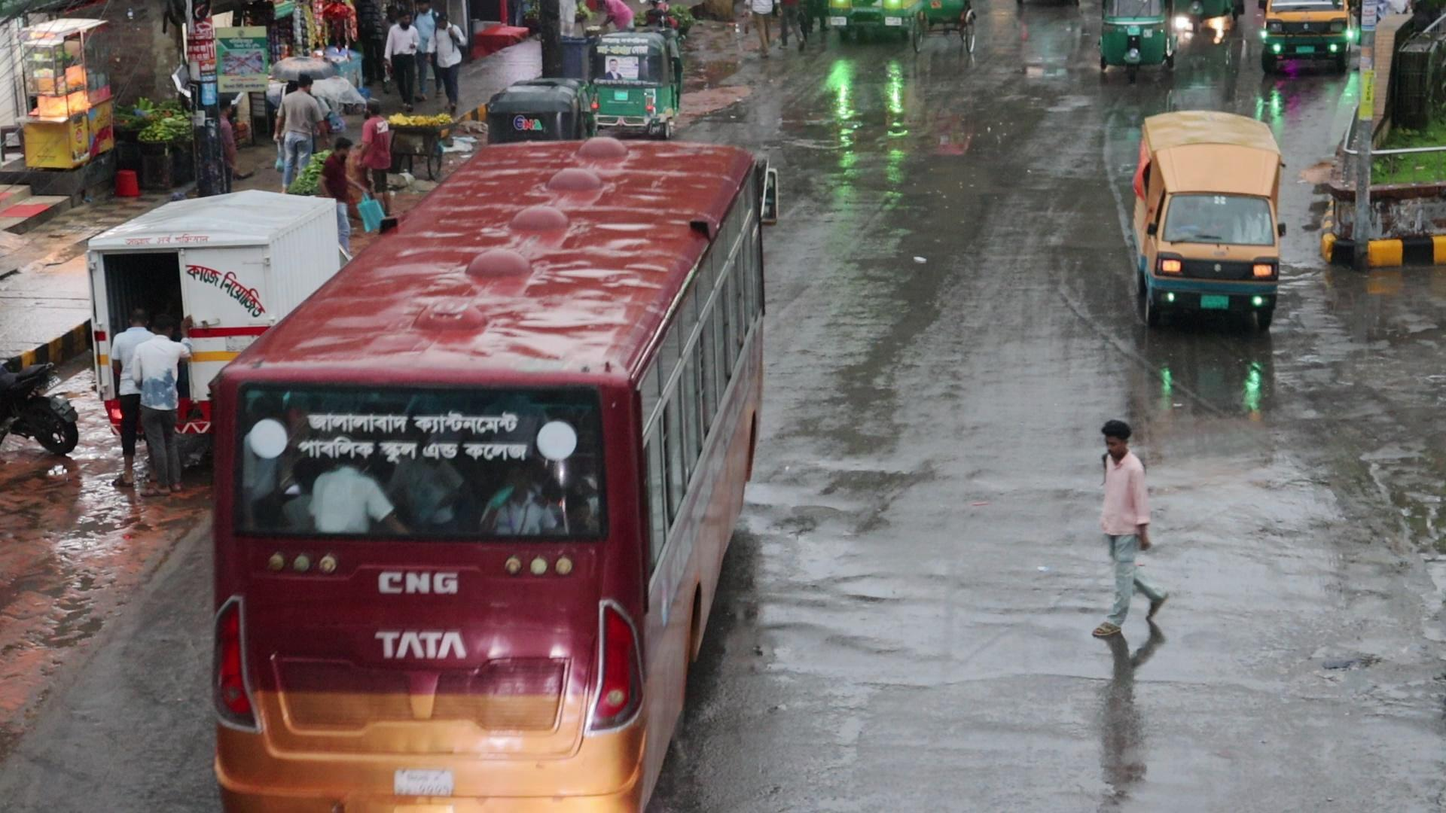Bus: (200, 133, 782, 813)
Truck: (1131, 105, 1284, 330)
